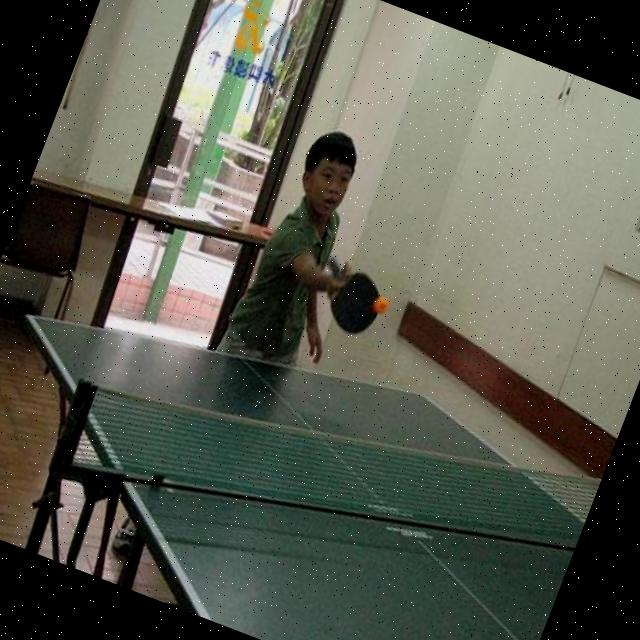ping-pong-ball: (371, 292, 392, 315)
